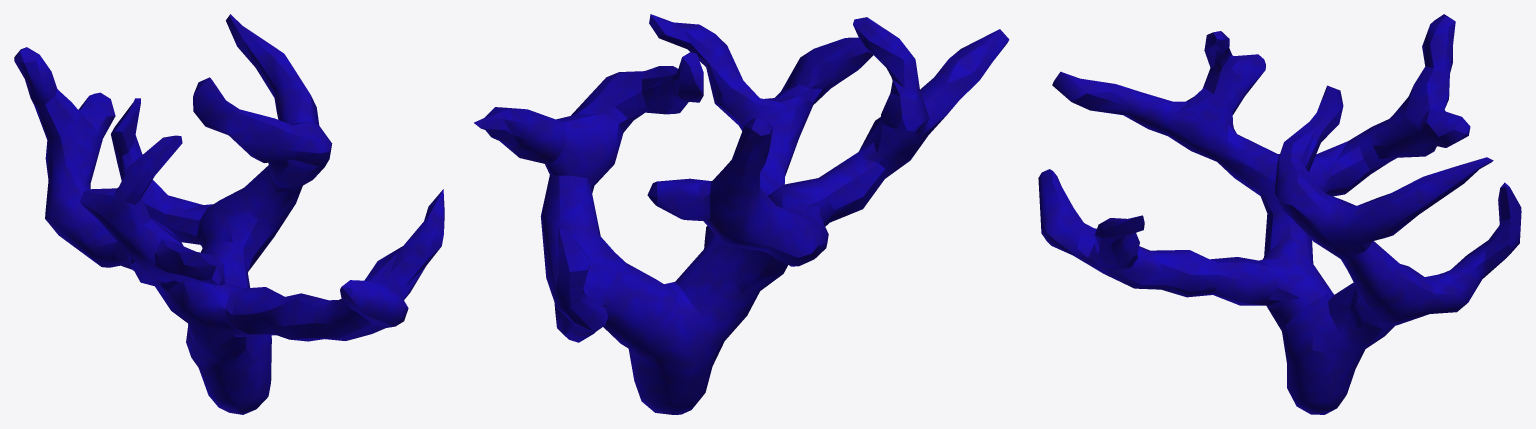
File: Coral1.obj
The picture shows the model from 3 angles, left to right: view 1: azimuth 30°, elevation 25°; view 2: azimuth 150°, elevation 25°; view 3: azimuth 270°, elevation 25°; orthographic projection. The views are drawn at different scales.
Visible parts, largest first — view 1: Coral1; view 2: Coral1; view 3: Coral1.
Boxes of the visible parts, x1=… form: Coral1: x1=14, y1=14, x2=444, y2=414; Coral1: x1=474, y1=14, x2=1009, y2=414; Coral1: x1=1038, y1=14, x2=1521, y2=414.
Bounding box in the file's own units: 1.06 × 1.17 × 1.55.
Materials: 1 (1 with a texture image).
